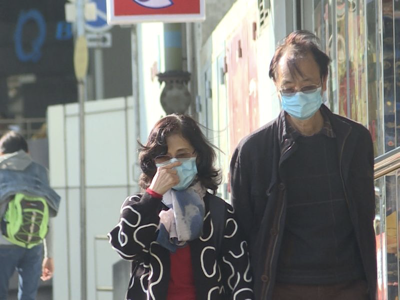with_mask: (154, 147, 199, 194), (276, 76, 324, 118)
